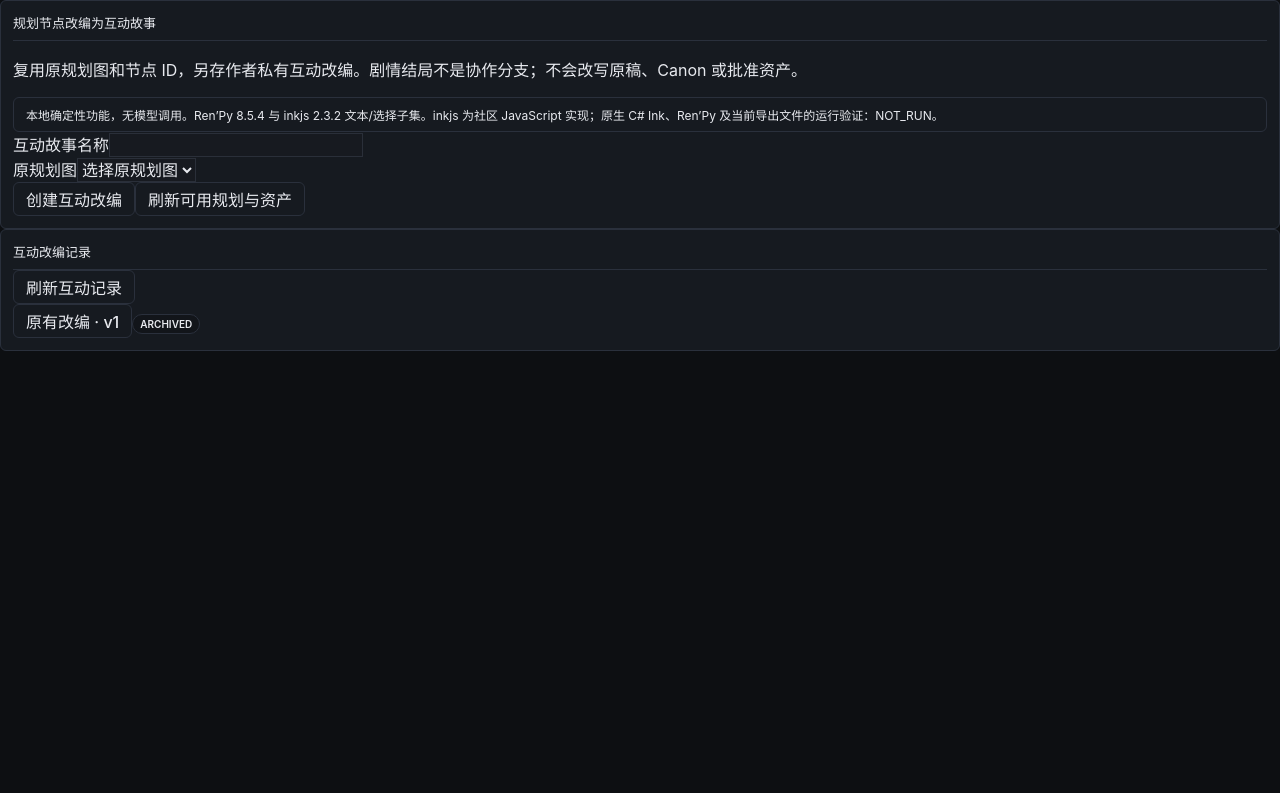
Test: does not add for archive records
Click the button "原有改编 · v1" at [73, 321], box [13,304,132,338]
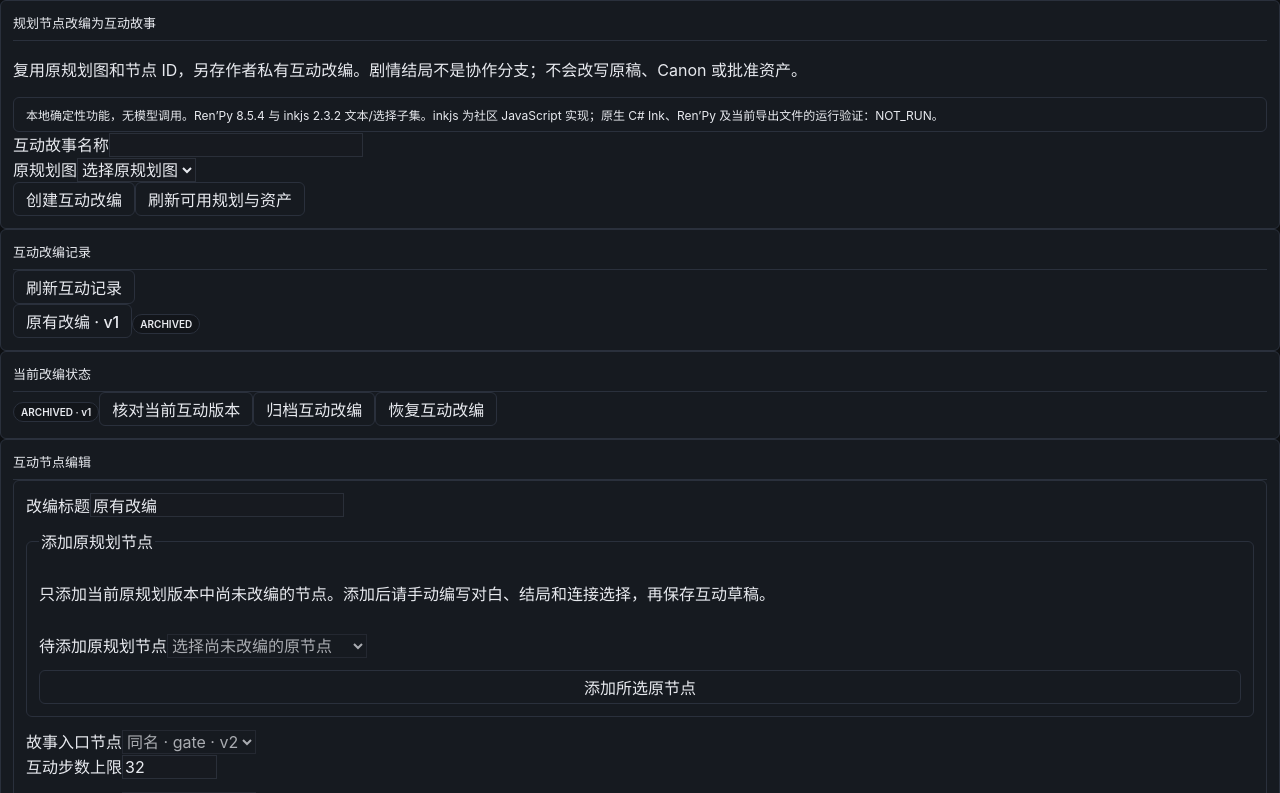
Expected: the button "添加所选原节点" is disabled, [39,670,1241,704]
Expected: the dropdown labelled "待添加原规划节点" shows "选择尚未改编的原节点", [167,634,367,658]
